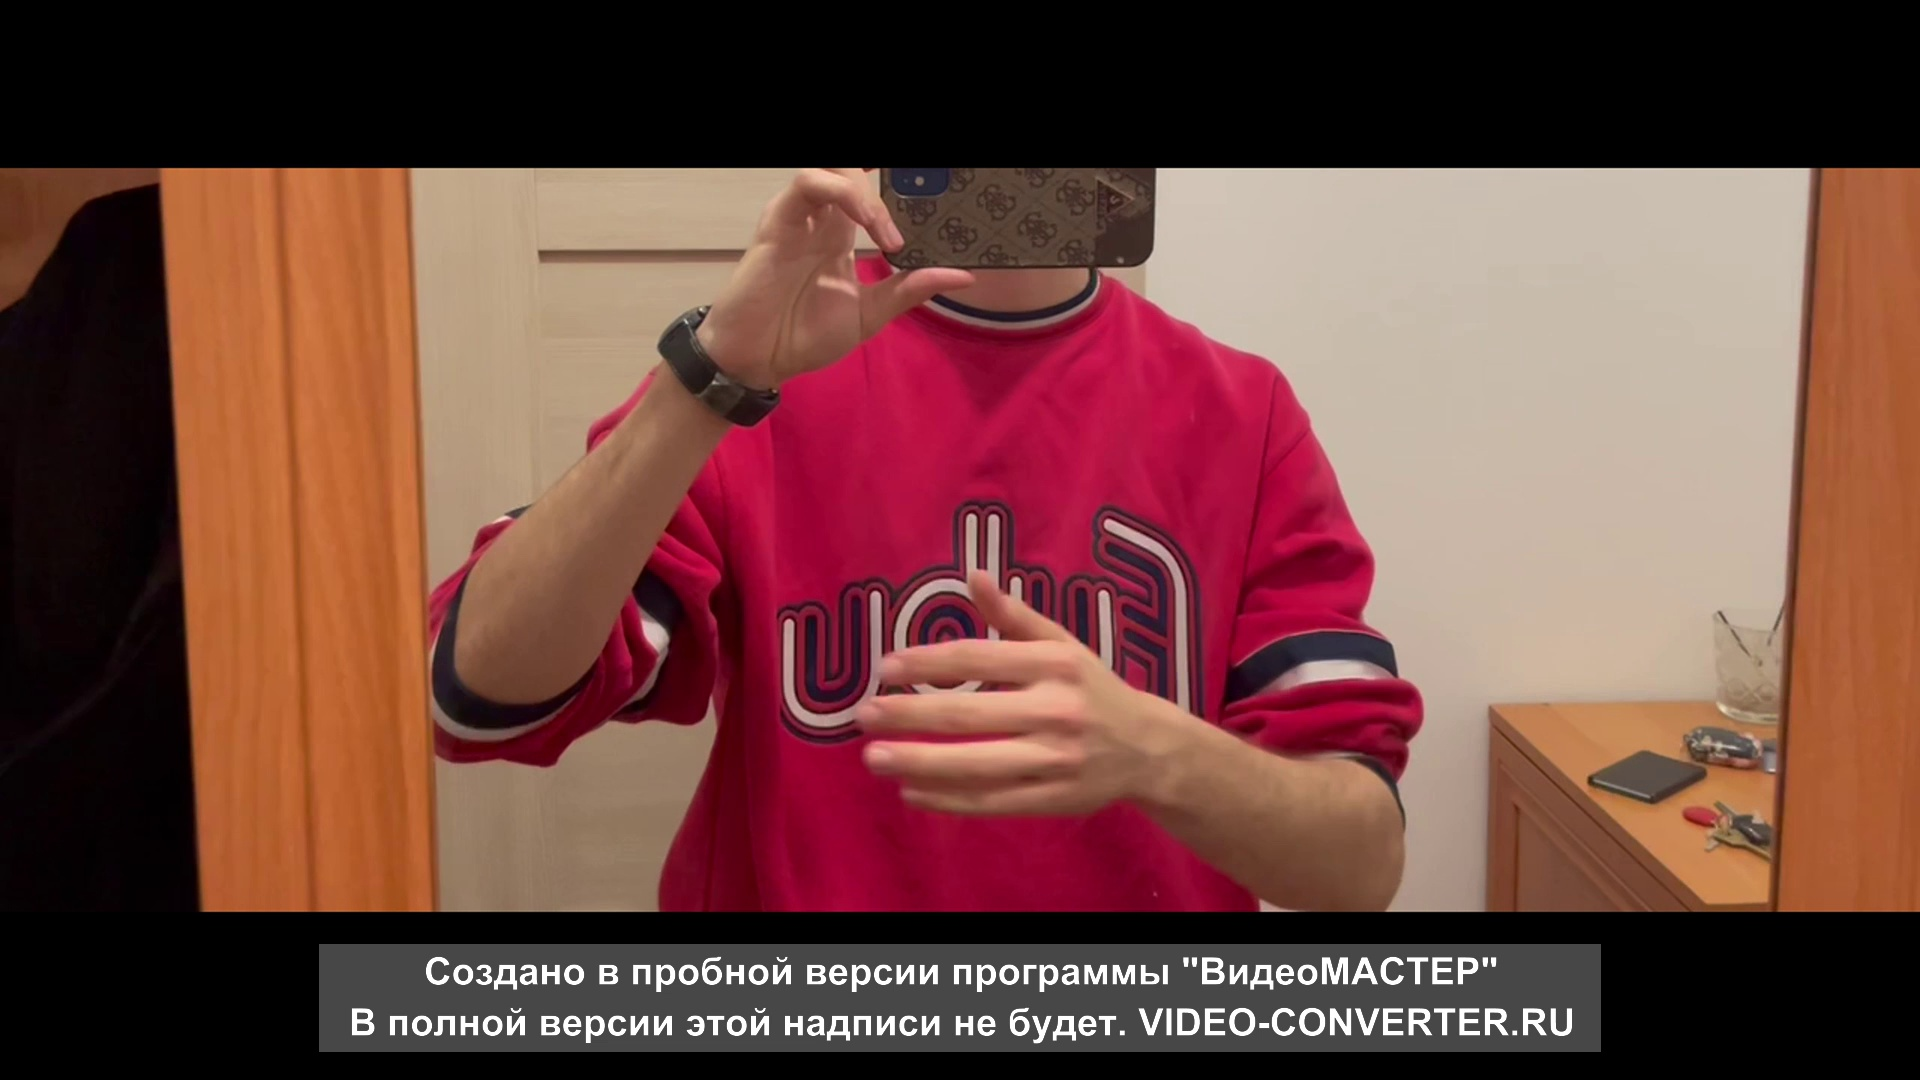Кисть: (855, 567, 1138, 819)
